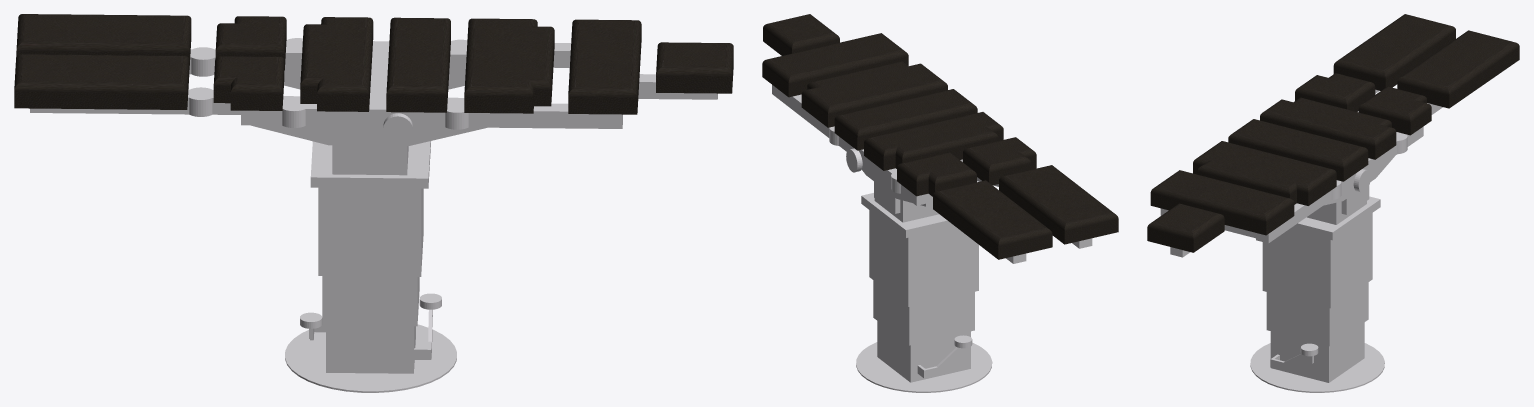
File: OP-Tisch.fbx
3 views of the same model, side by side, from view 1: azimuth 30°, elevation 25°; view 2: azimuth 150°, elevation 25°; view 3: azimuth 270°, elevation 25° (orthographic). The views are drawn at different scales.
Parts seen in each view (by area): view 1: Leder, schwarz, Stahl, rostfrei; view 2: Leder, schwarz, Stahl, rostfrei; view 3: Leder, schwarz, Stahl, rostfrei.
Part boxes in pixels (x1,y1,x2,y2): Leder, schwarz: [14, 14, 733, 114]; Stahl, rostfrei: [30, 38, 717, 392]; Leder, schwarz: [762, 14, 1118, 259]; Stahl, rostfrei: [772, 85, 1092, 392]; Leder, schwarz: [1147, 14, 1519, 252]; Stahl, rostfrei: [1160, 89, 1442, 392].
Size of the model in its own units: 181 by 128 by 90.
3 materials, 1 textured.
